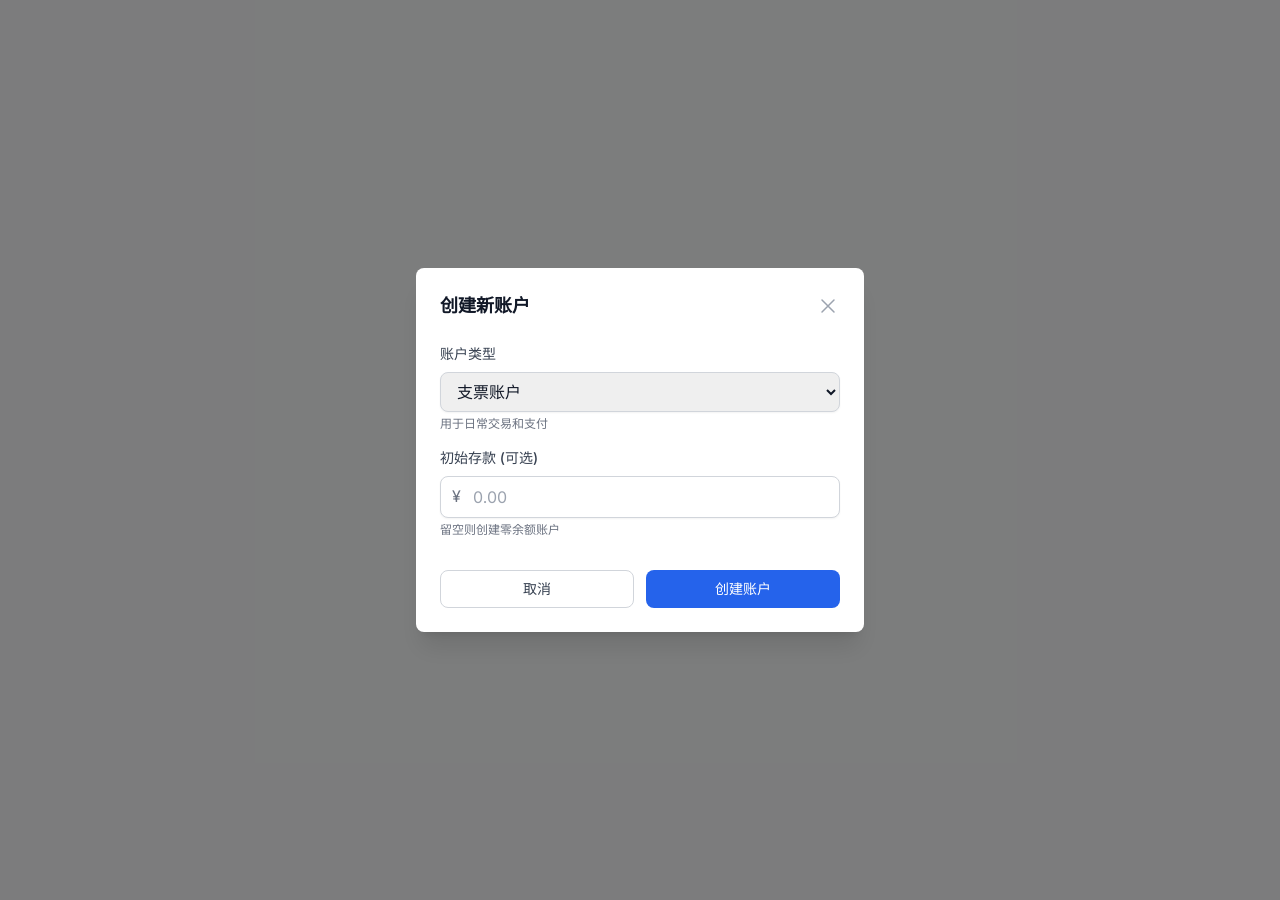
Test: CreateAccountModal › 应该允许更改账户类型
Select "储蓄账户" in the dropdown labelled "账户类型" at (640, 392), box [440,372,840,412]
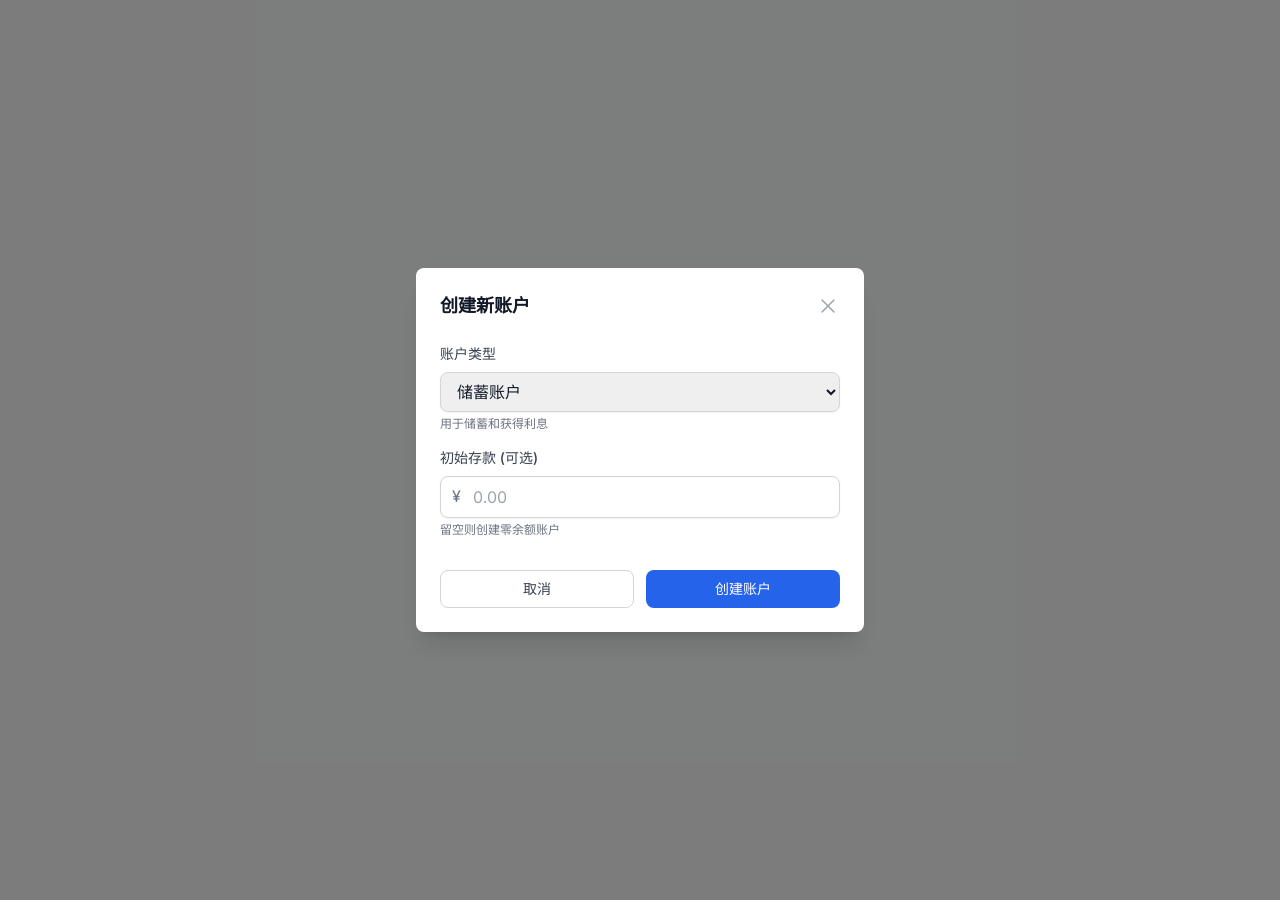
Expected: the text "用于储蓄和获得利息" is shown, [440,416,548,431]
